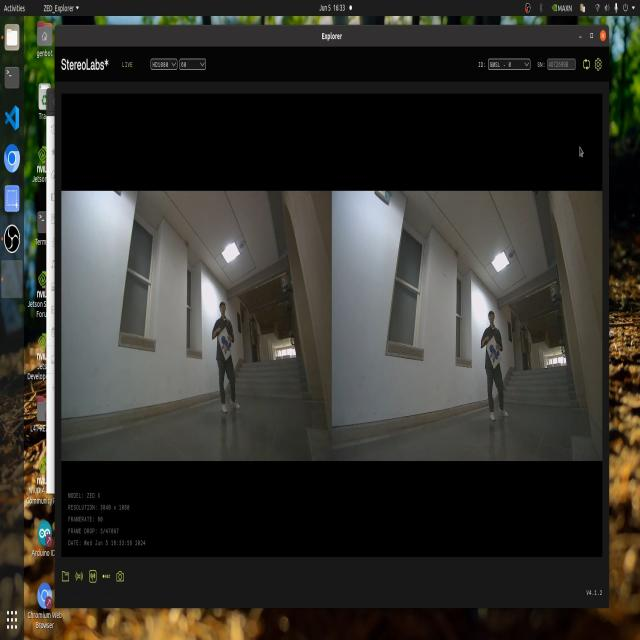blue: (486, 343, 506, 367), (221, 330, 234, 354)
